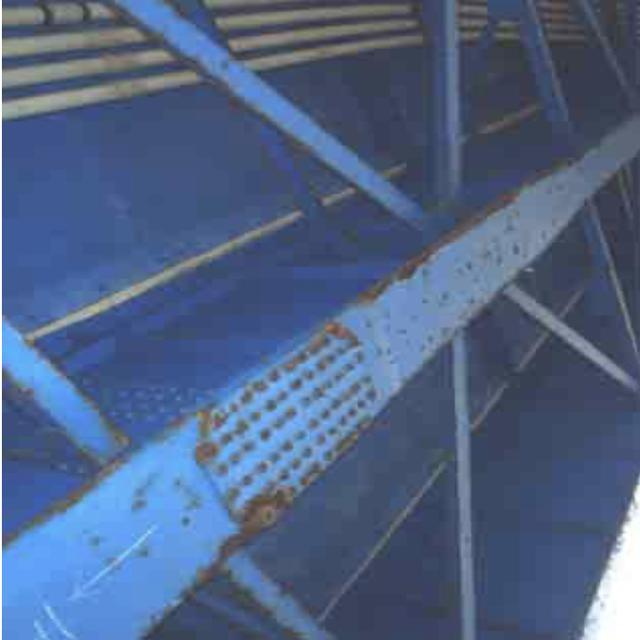corrosion: (183, 319, 378, 540), (352, 167, 544, 303), (22, 340, 132, 556)
